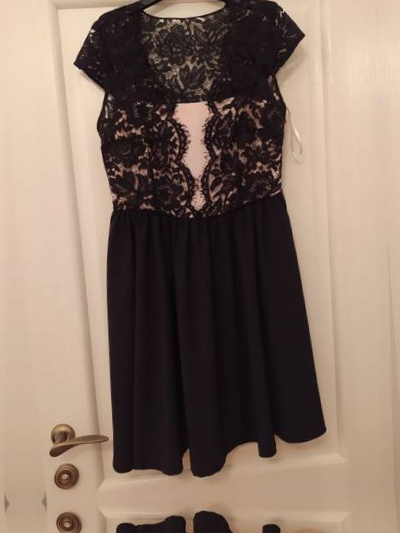Dress: (43, 0, 345, 462), (70, 527, 372, 533)
